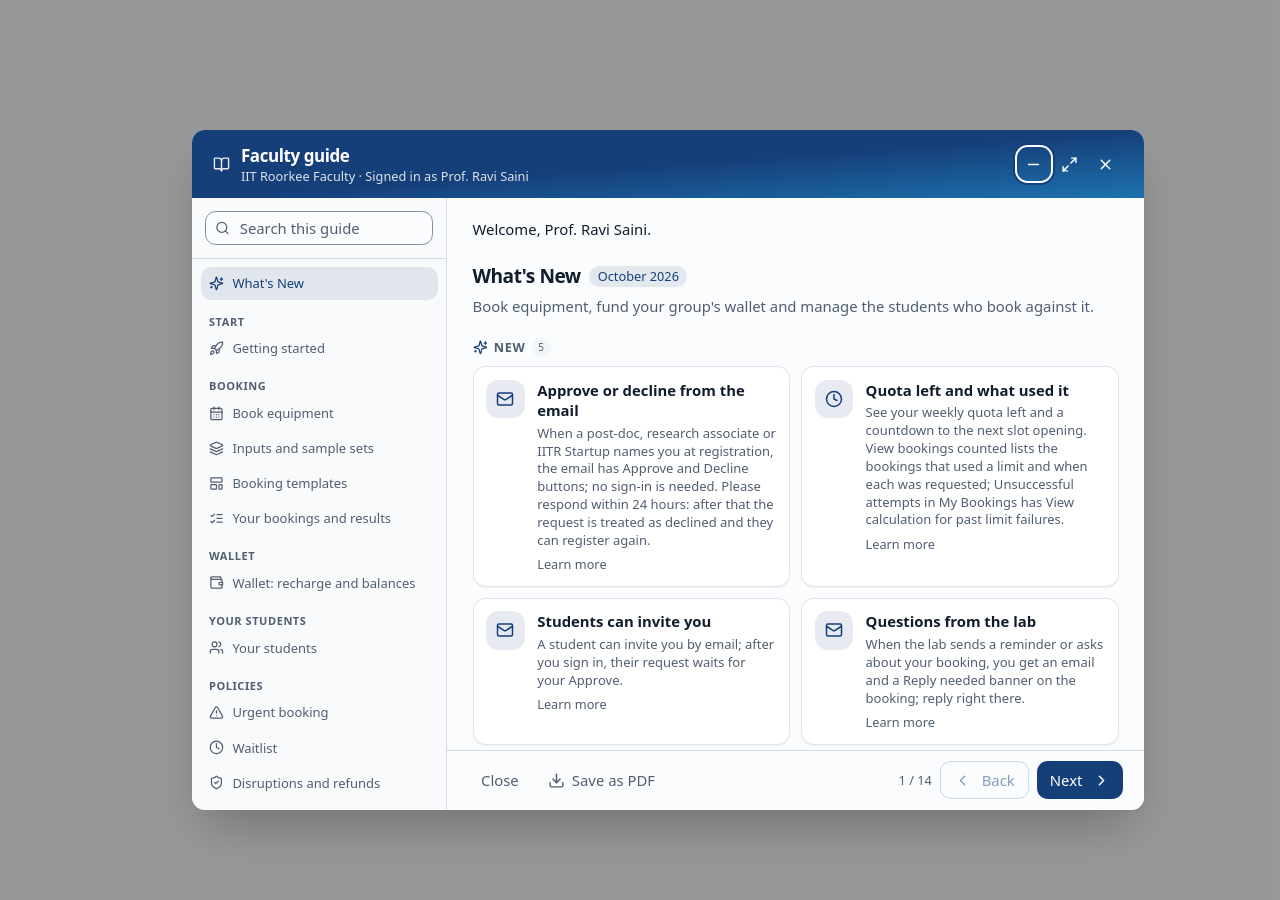
Test case: UserGuideDialog greeting › keeps the greeting on a chapter opened from search results
Type "Help and FAQ" into the field labelled "Search this guide".
click(319, 228); type("Help and FAQ")  # box [205,211,433,245]
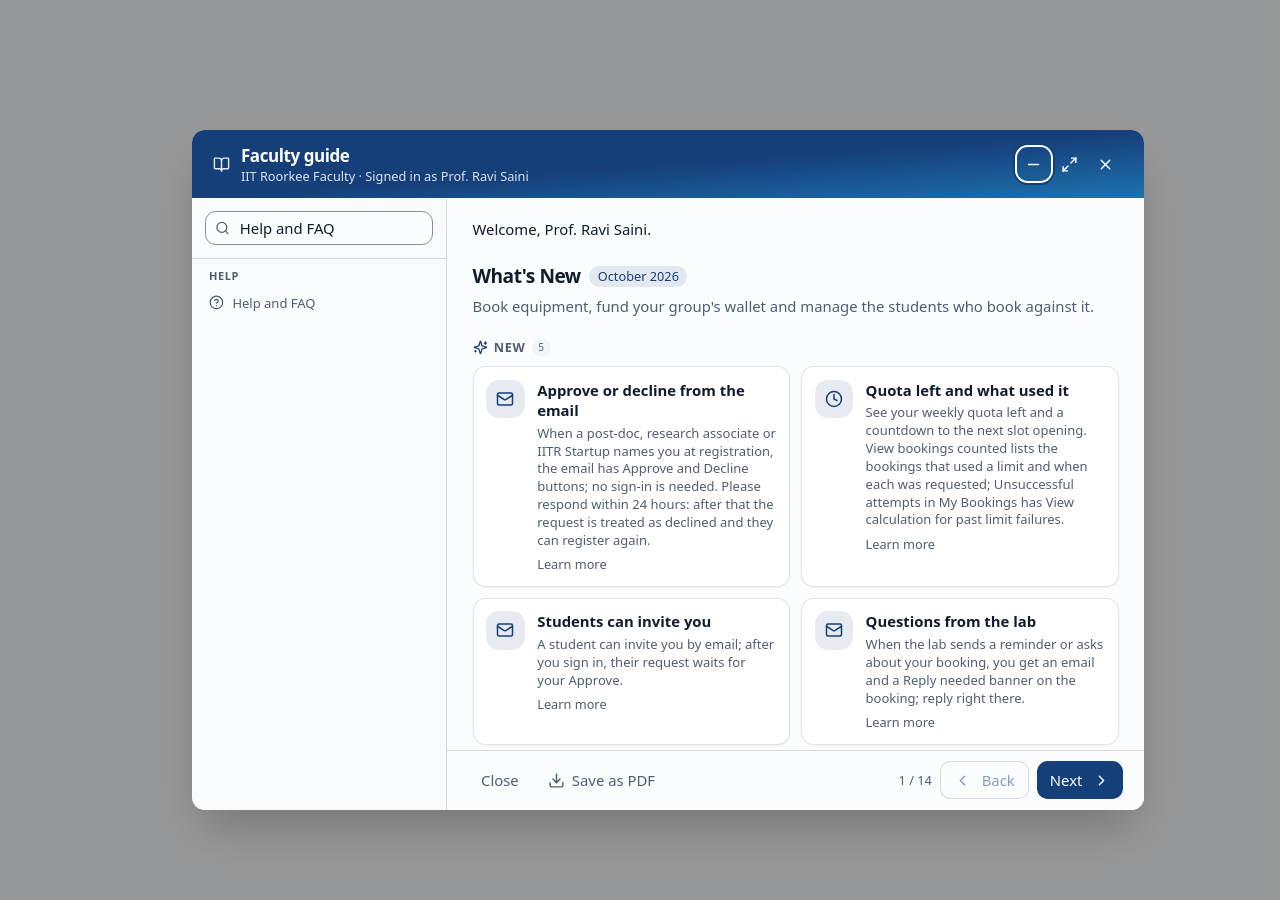
Click the button "Help and FAQ".
click(319, 303)  # box [200,286,438,319]
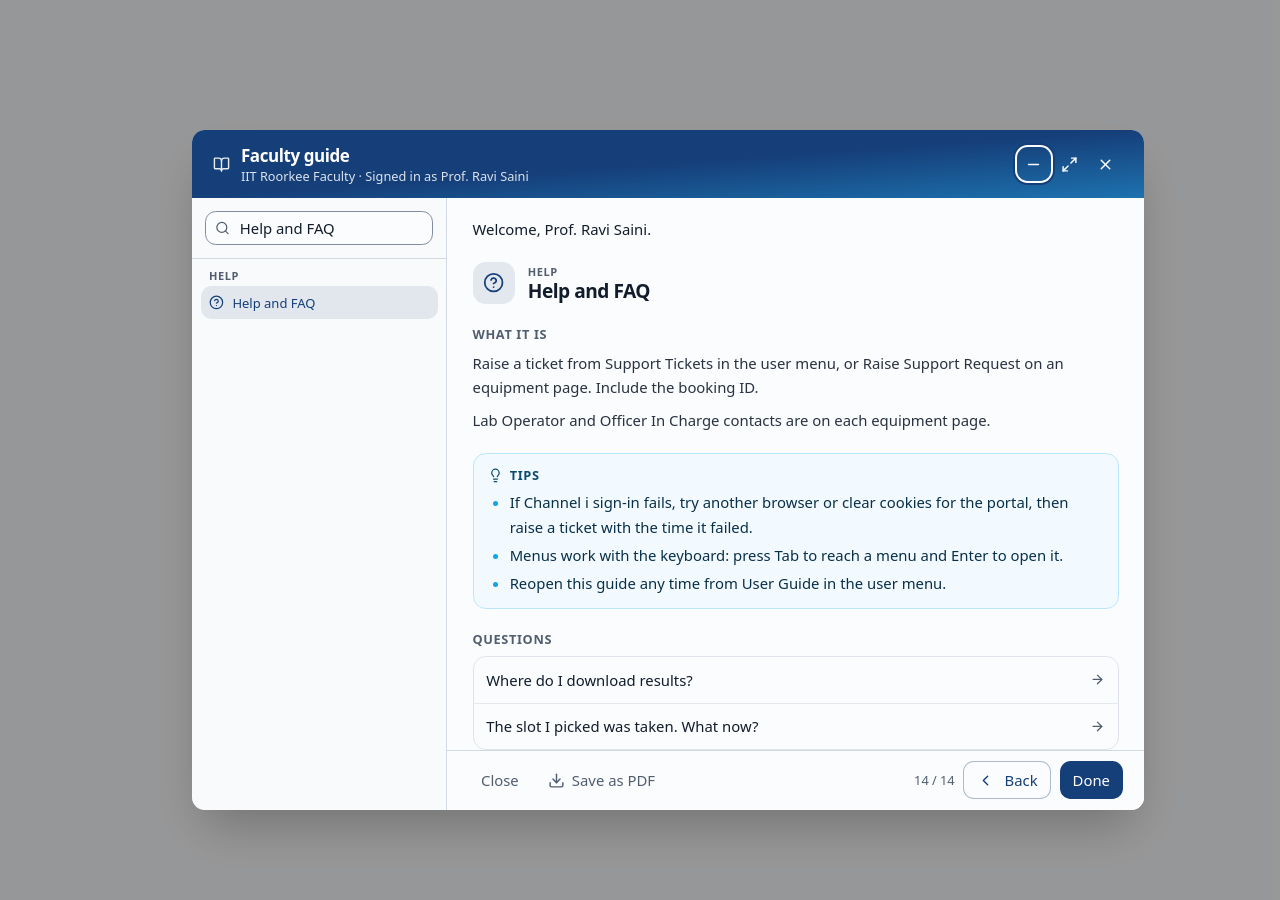
Check: the heading "Help and FAQ" is shown, box [528,280,650,304]
